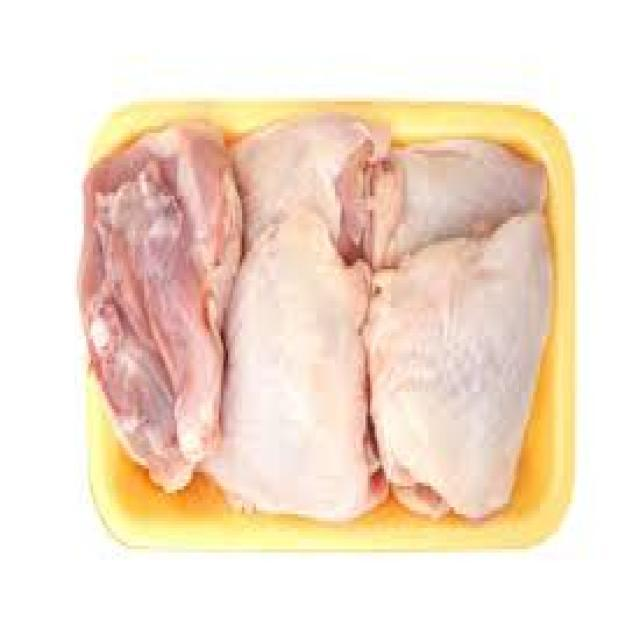breast: (369, 228, 562, 520), (74, 133, 235, 450), (225, 223, 383, 521), (370, 130, 373, 132)
